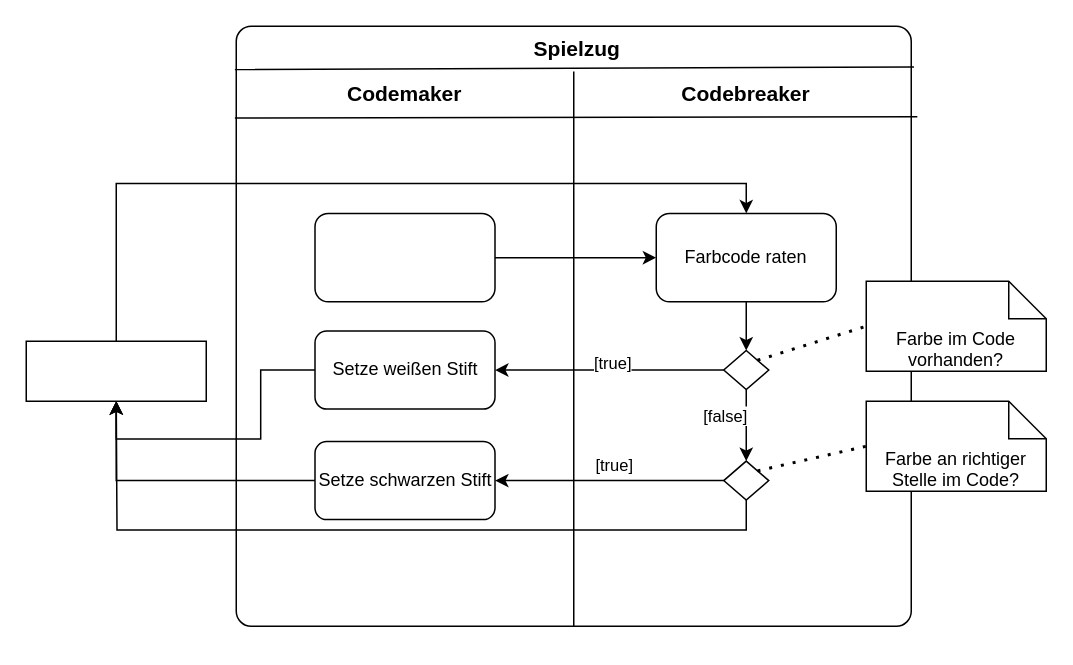
The diagram is 1073 pixels wide and 665 high, and some of its shapes have lost their labels. Here are the shapes that lost their labels. From the top down, the centre of each, then its label:
At (404,257): "Farbcode setzen".
At (115,370): "Rundenzahl++".
